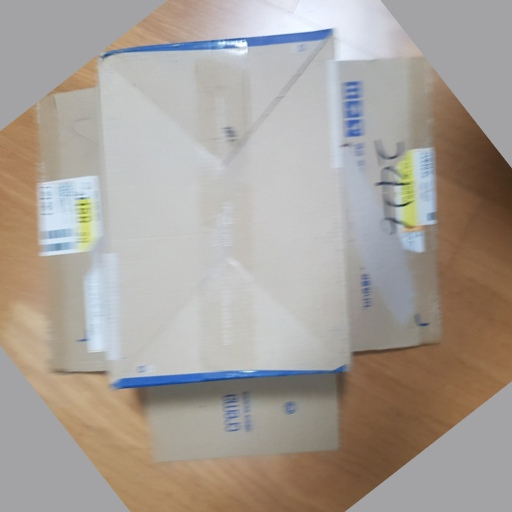Paper_0: (32, 25, 448, 462)
